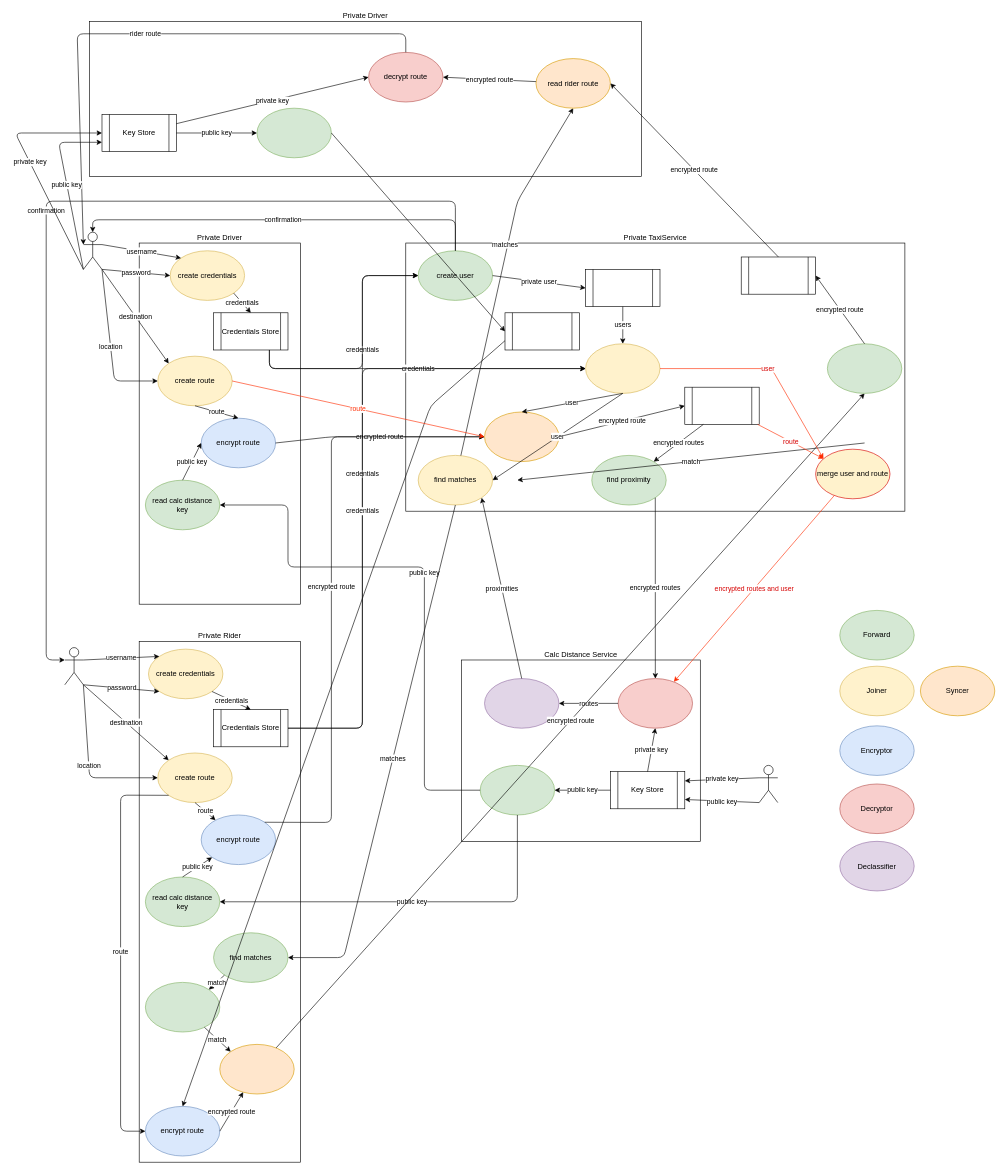
The diagram is 1006 pixels wide and 1173 high, and some of its shapes have lost their labels. The centre of each missing label's shape, as x and y in pixels:
"Administrator" goes at (768,784).
"calc proximity" goes at (521,703).
"decrypt routes" goes at (655,703).
"Driver" goes at (92,250).
"Driver Keys" goes at (541,331).
"Driver Route Storage" goes at (778,275).
"find user" goes at (622,368).
"read public key" goes at (517,790).
"register public key" goes at (293,133).
"Rider" goes at (73,666).
"Route Storage" goes at (721,405).
"select match" goes at (182,1007).
"send route" goes at (256,1069).
"store route" goes at (521,436).
"store route for driver" goes at (864,368).
"User Store" goes at (622,288).
